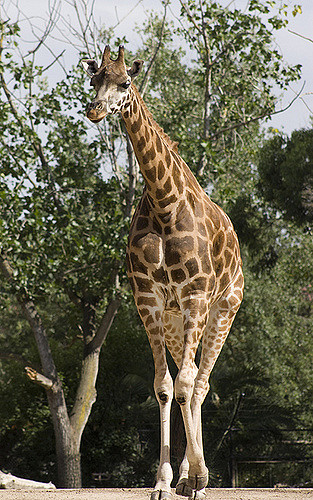giraffe: (72, 49, 262, 469)
